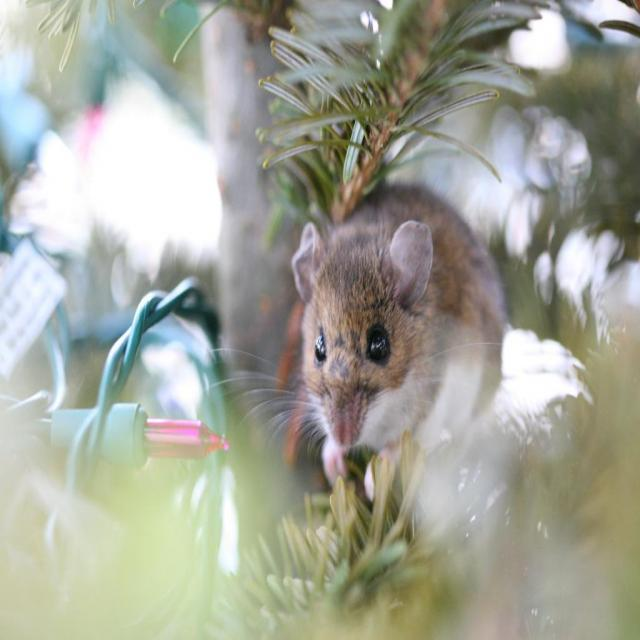rat: (287, 179, 511, 455)
